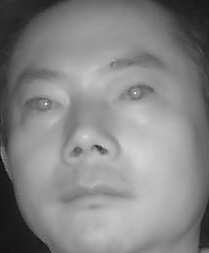eye: (116, 80, 160, 107), (22, 93, 65, 119)
mouth: (57, 173, 133, 217)
